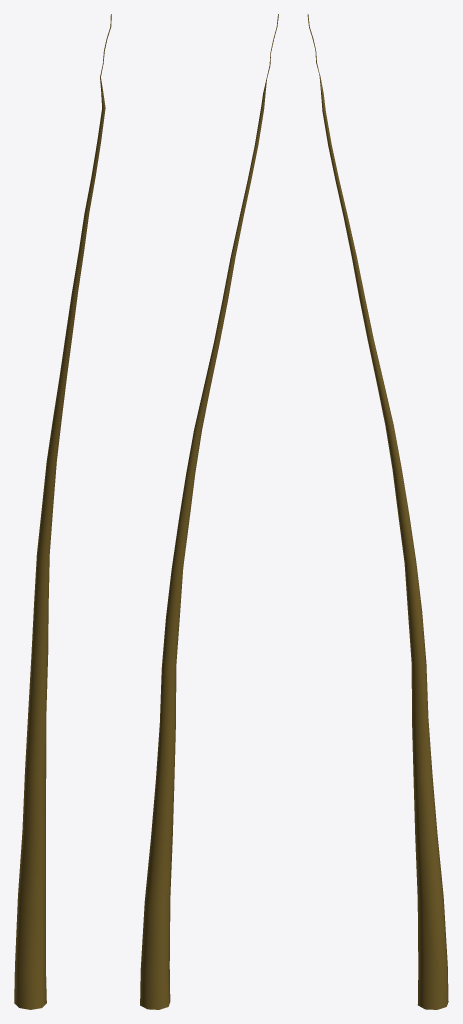
The model's file is real-tree2-trunk.glb.
3 views of the same model, side by side, from view 1: azimuth 90°, elevation 25°; view 2: azimuth 150°, elevation 25°; view 3: azimuth 330°, elevation 25° (orthographic). The views are drawn at different scales.
Parts seen in each view (by area): view 1: PCR0001B_Untitled.043; view 2: PCR0001B_Untitled.043; view 3: PCR0001B_Untitled.043.
Boxes of the visible parts, <box> form: PCR0001B_Untitled.043: <box>14,14,111,1009</box>; PCR0001B_Untitled.043: <box>140,14,278,1009</box>; PCR0001B_Untitled.043: <box>307,14,448,1009</box>.
Size of the model in its own units: 0.3883 by 3.7 by 0.3165.
